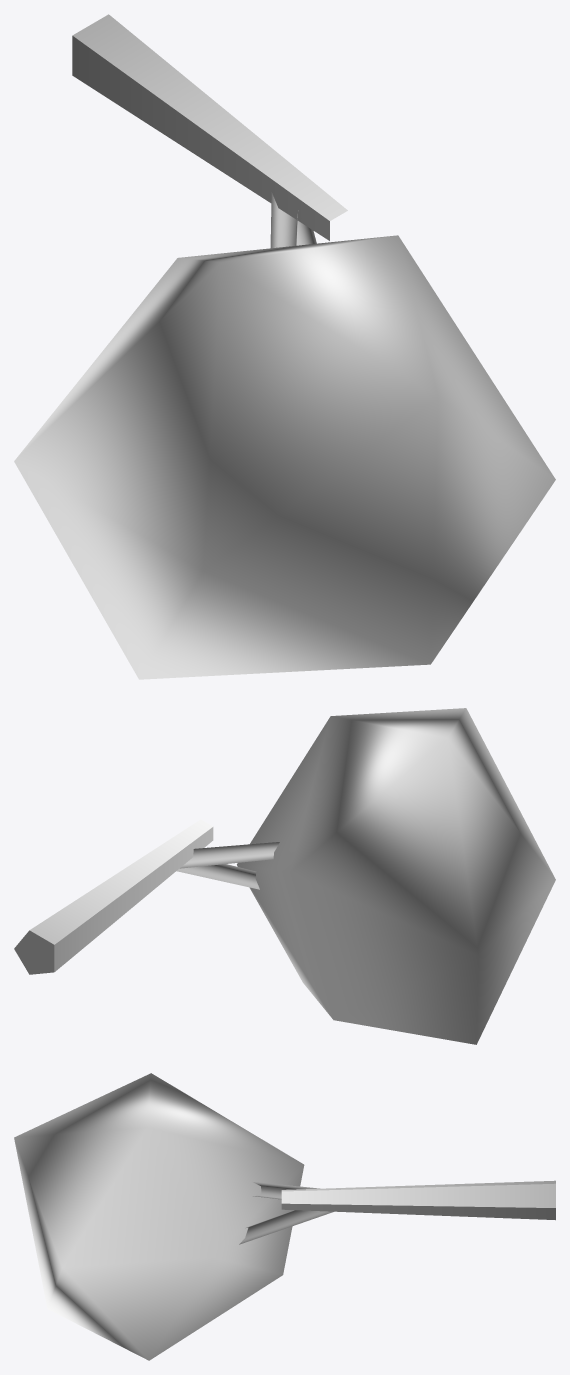
The model's file is SM_Sakura_Tree_Small.glb.
The picture shows the model from 3 angles, top to bottom: view 1: azimuth 30°, elevation 25°; view 2: azimuth 150°, elevation 25°; view 3: azimuth 270°, elevation 25°; orthographic projection. The views are drawn at different scales.
Parts seen in each view (by area): view 1: asset_sakura_tree_small; view 2: asset_sakura_tree_small; view 3: asset_sakura_tree_small.
Part boxes in pixels (x1=…): asset_sakura_tree_small: x1=14, y1=14, x2=555, y2=679; asset_sakura_tree_small: x1=14, y1=708, x2=555, y2=1044; asset_sakura_tree_small: x1=14, y1=1073, x2=555, y2=1360.
Bounding box in the file's own units: 1.22 × 1.22 × 2.57.
2 materials, 2 textured.
